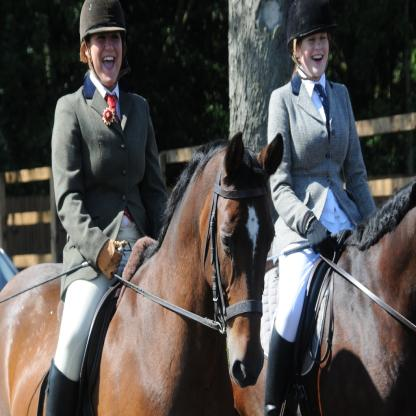Helmet: (80, 0, 127, 84), (287, 0, 330, 79)
